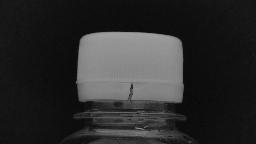Broken Ring: (114, 77, 146, 103)
Loose Cap: (66, 73, 194, 123)
